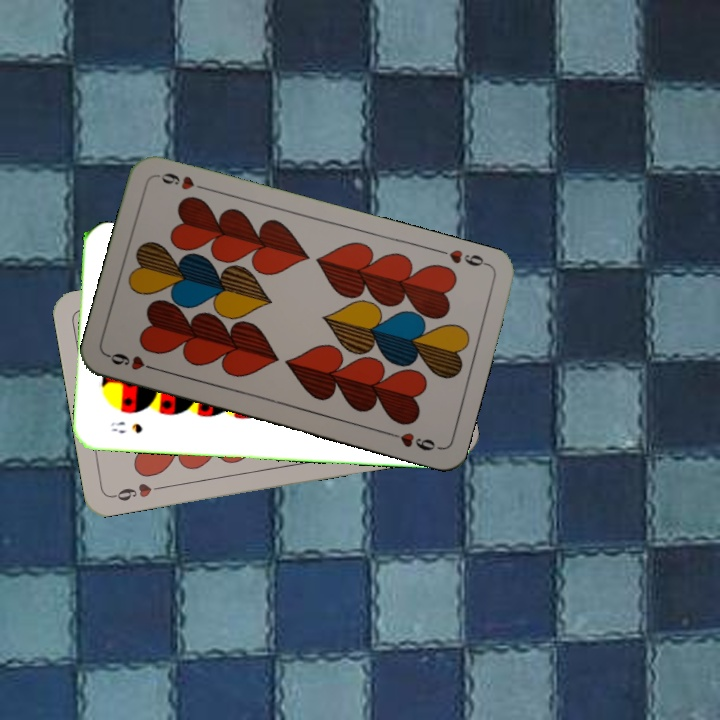H9: (109, 479, 167, 504), (104, 349, 162, 374), (434, 245, 492, 269)
S8: (107, 417, 145, 436)
